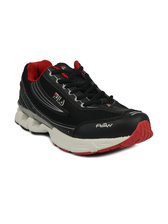shoes: (7, 55, 154, 154)
